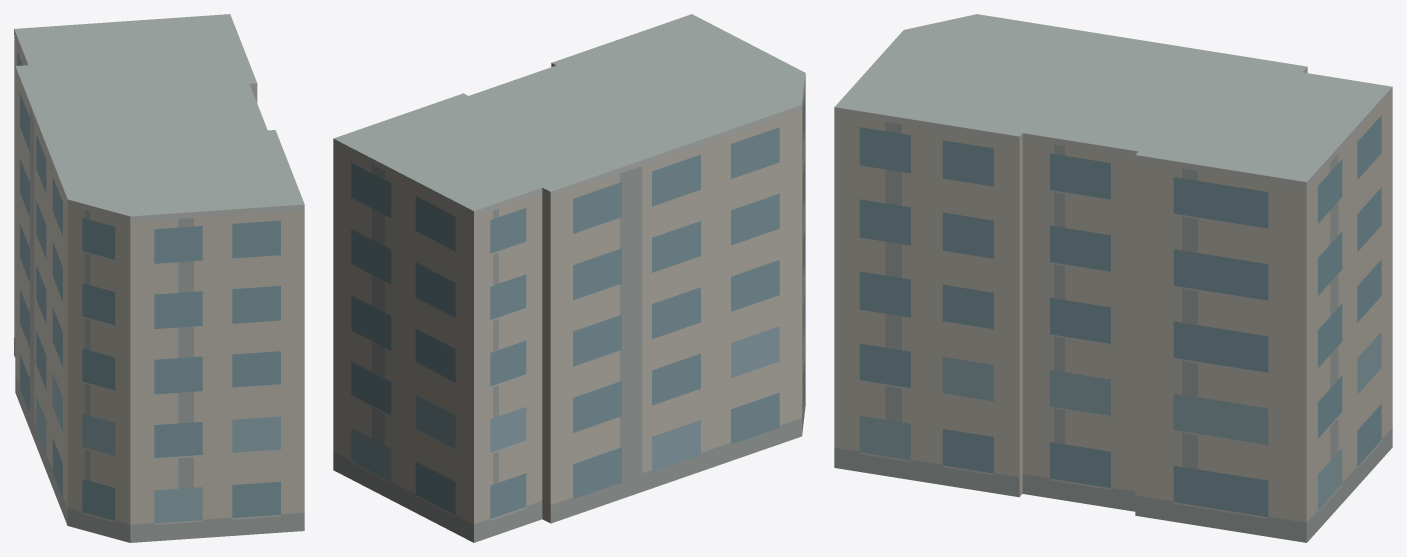
The model's file is survey-upis-33038501.glb.
3 views of the same model, side by side, from view 1: azimuth 30°, elevation 25°; view 2: azimuth 150°, elevation 25°; view 3: azimuth 270°, elevation 25° (orthographic). The views are drawn at different scales.
Visible parts, largest first — view 1: survey-upis-33038501.tmp; view 2: survey-upis-33038501.tmp; view 3: survey-upis-33038501.tmp.
Boxes of the visible parts, x1=… form: survey-upis-33038501.tmp: x1=14, y1=14, x2=304, y2=542; survey-upis-33038501.tmp: x1=333, y1=14, x2=805, y2=542; survey-upis-33038501.tmp: x1=834, y1=14, x2=1392, y2=542.
Size of the model in its own units: 13.71 by 13.7 by 19.22.
